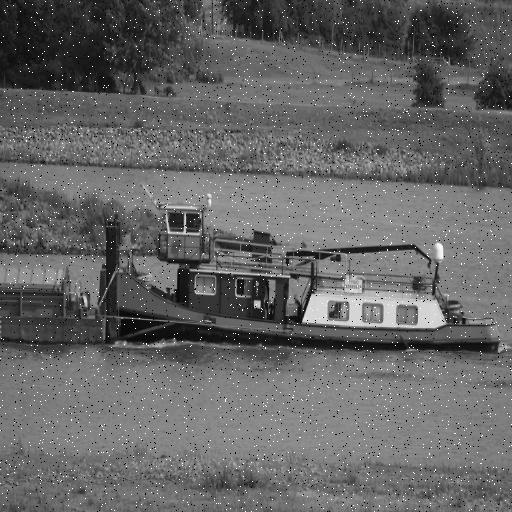tugboat: (104, 182, 512, 362)
